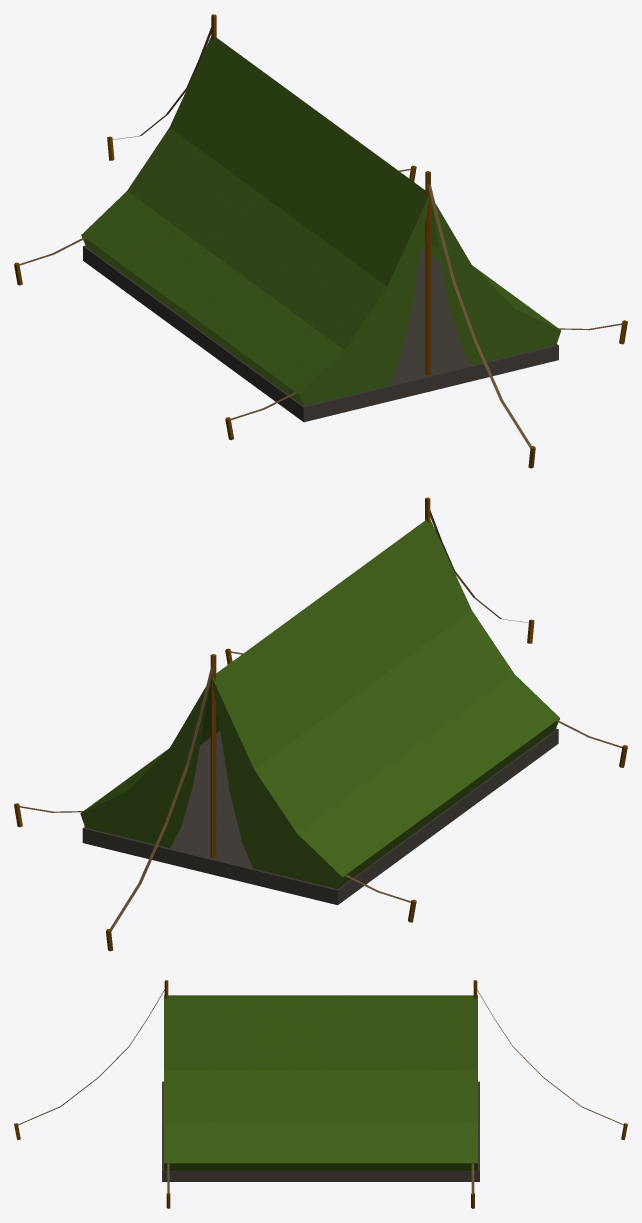
File: Tent_02.FBX
The picture shows the model from 3 angles, top to bottom: view 1: azimuth 30°, elevation 25°; view 2: azimuth 150°, elevation 25°; view 3: azimuth 270°, elevation 25°; orthographic projection. The views are drawn at different scales.
Parts seen in each view (by area): view 1: Tent_02; view 2: Tent_02; view 3: Tent_02.
Part boxes in pixels (bbox=[...]): Tent_02: bbox=[14, 14, 627, 468]; Tent_02: bbox=[14, 497, 627, 951]; Tent_02: bbox=[14, 980, 627, 1208].
Bounding box in the file's own units: 591 × 309 × 1085.
Materials: 1 (1 with a texture image).
